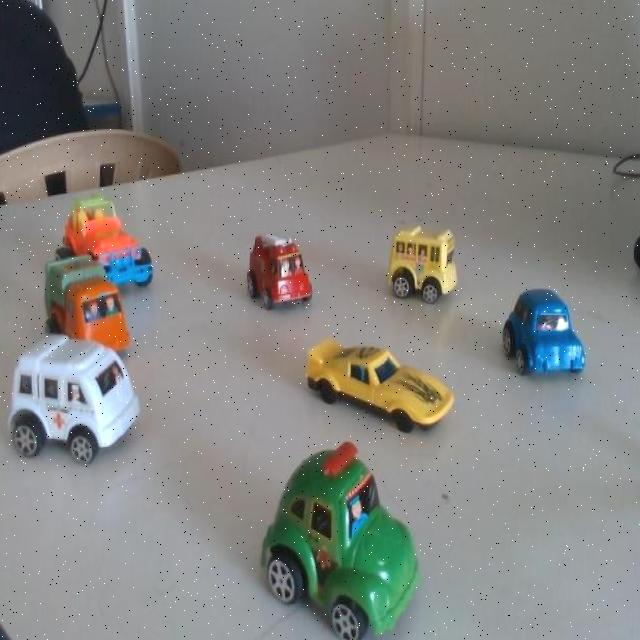car: (269, 448, 426, 636), (13, 312, 158, 490), (316, 326, 448, 448), (78, 191, 161, 294), (380, 220, 465, 319), (238, 221, 314, 330), (511, 286, 588, 386), (57, 246, 122, 359)
